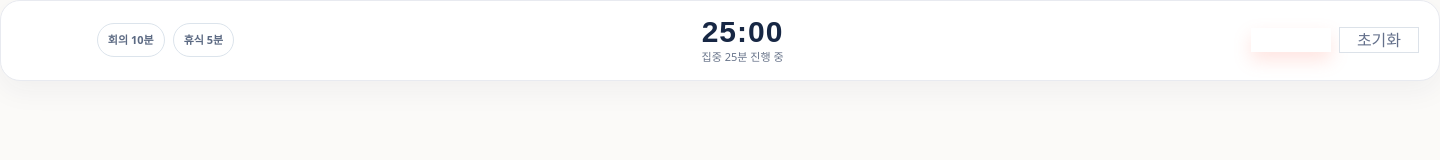
FocusTimer › 모드를 바꾸면 프리셋 시간으로 즉시 바뀐다
The image size is (1440, 160).
Click the button "회의 10분".
click(131, 40)  # box [97, 23, 165, 57]
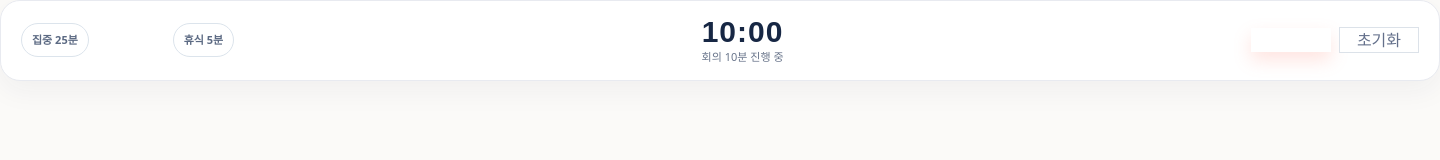
Expected: the text "10:00" is shown, [702, 15, 783, 49]
Click the button "휴식 5분".
click(203, 40)  # box [173, 23, 234, 57]
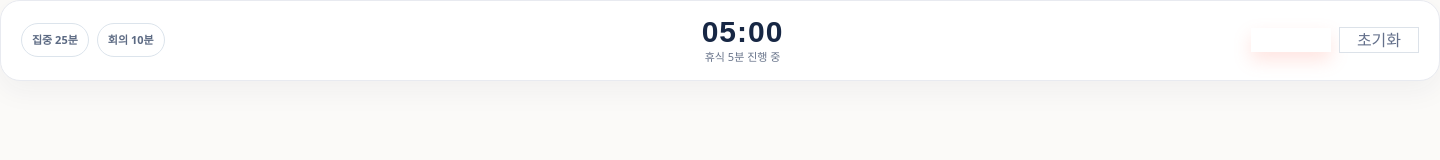
Expected: the text "05:00" is shown, [702, 15, 783, 49]
